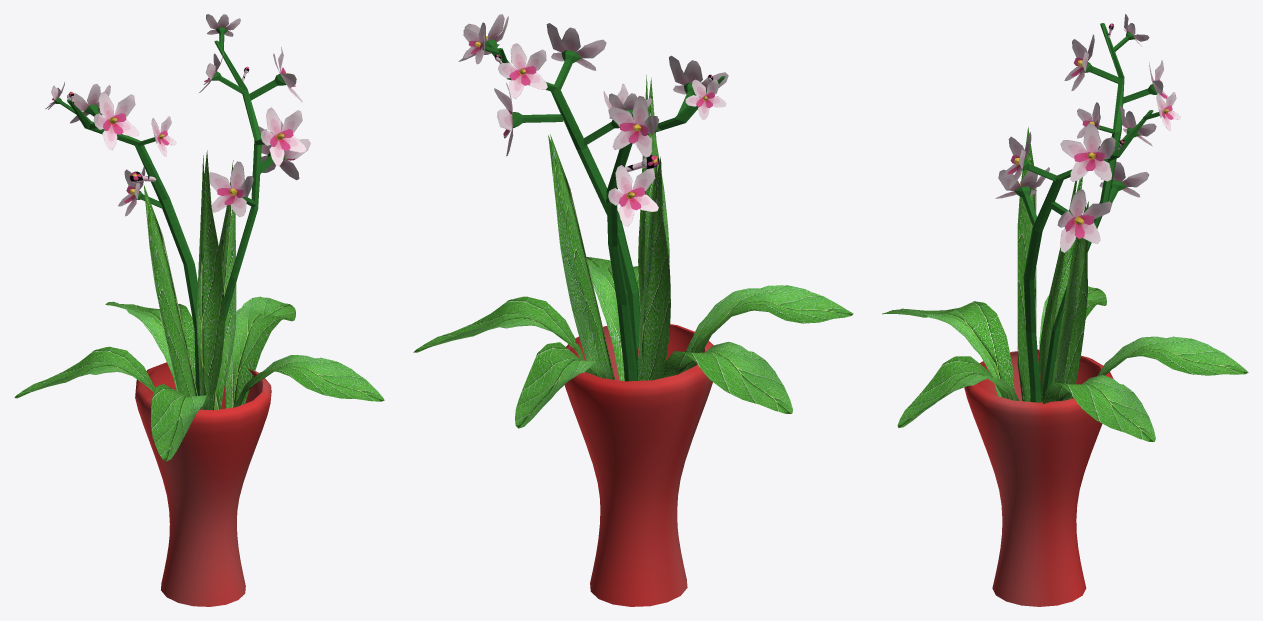
The model's file is Orchid.FBX.
3 views of the same model, side by side, from view 1: azimuth 30°, elevation 25°; view 2: azimuth 150°, elevation 25°; view 3: azimuth 270°, elevation 25° (orthographic). The views are drawn at different scales.
Visible parts, largest first — view 1: orchid; view 2: orchid; view 3: orchid.
Part boxes in pixels (<box>): orchid: <box>14,14,384,606</box>; orchid: <box>413,14,853,606</box>; orchid: <box>882,14,1248,606</box>.
Size of the model in its own units: 101 by 101 by 163.
